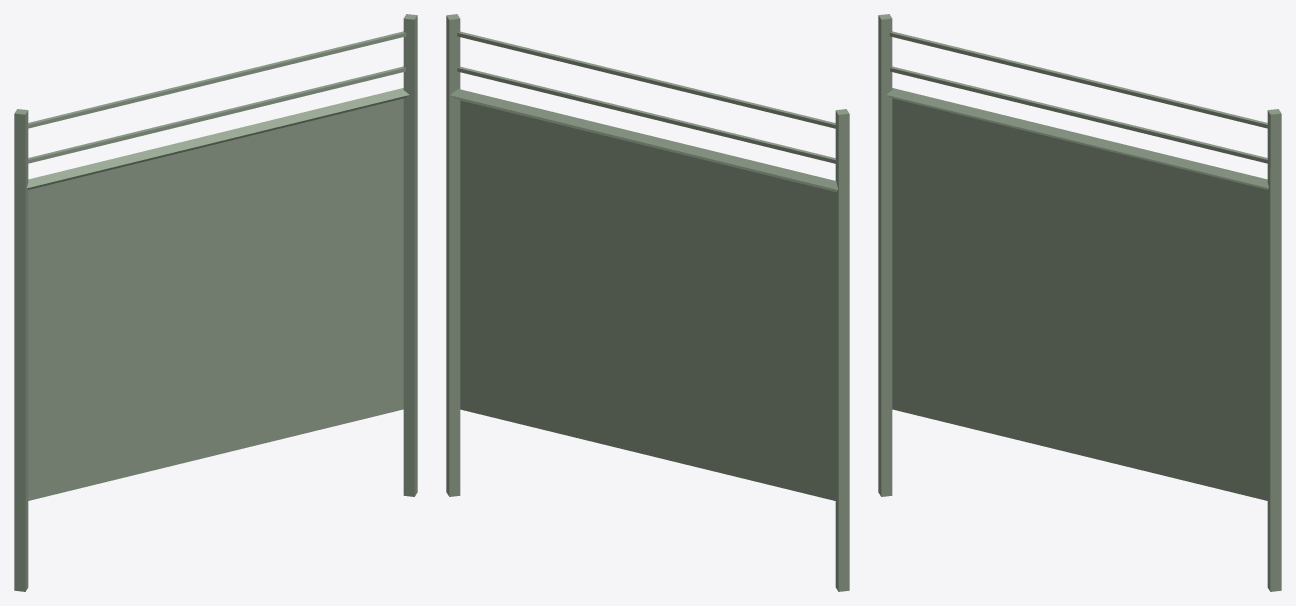
Rendered from fence_02.fbx.
3 views of the same model, side by side, from view 1: azimuth 30°, elevation 25°; view 2: azimuth 150°, elevation 25°; view 3: azimuth 330°, elevation 25° (orthographic).
Parts seen in each view (by area): view 1: fence_02; view 2: fence_02; view 3: fence_02.
Boxes of the visible parts, left/top/right/bottom form: fence_02: left=14, top=14, right=417, bottom=591; fence_02: left=446, top=14, right=849, bottom=591; fence_02: left=878, top=14, right=1281, bottom=591.
Size of the model in its own units: 4.89 by 5.53 by 0.1721.
